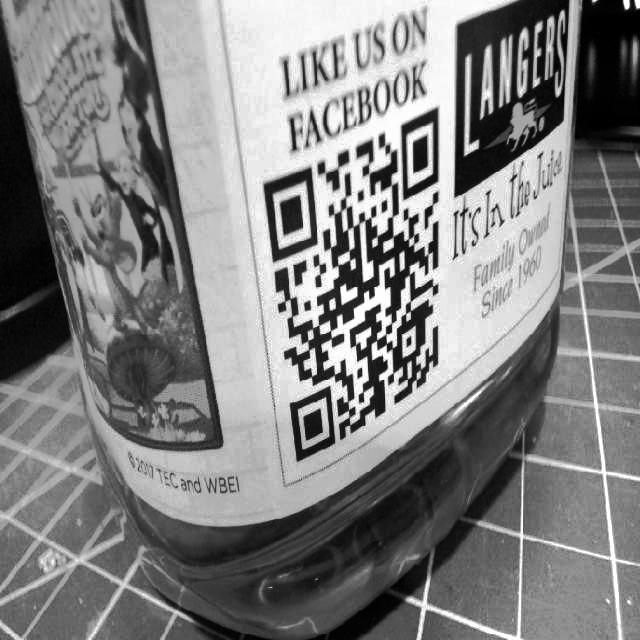qr_code: (250, 96, 455, 477)
